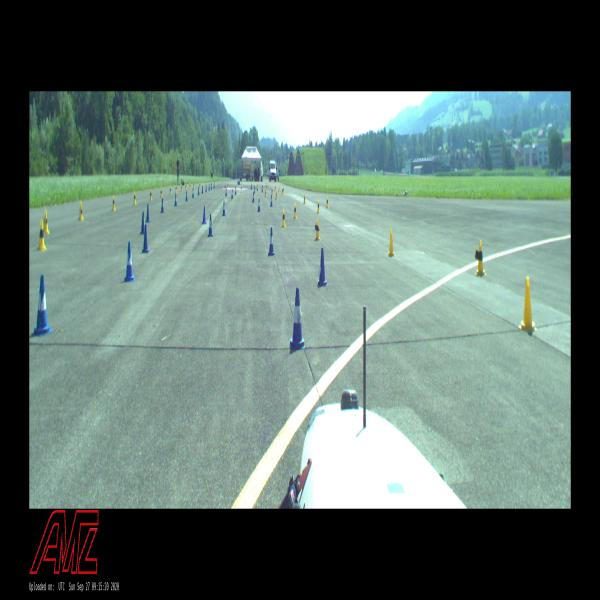blue_cone: (31, 275, 53, 336), (290, 287, 305, 348), (124, 241, 136, 282), (318, 247, 327, 286), (142, 225, 150, 252), (268, 227, 275, 256), (208, 214, 214, 237), (140, 211, 145, 234), (146, 204, 150, 222), (202, 206, 206, 224), (222, 200, 226, 217), (160, 198, 164, 213), (174, 193, 178, 206), (270, 194, 273, 207), (252, 192, 255, 203), (258, 198, 260, 212), (186, 190, 188, 201), (192, 188, 194, 198), (231, 189, 233, 199), (226, 187, 228, 196), (205, 184, 207, 192), (208, 184, 210, 191), (198, 187, 199, 195), (202, 186, 203, 194), (235, 187, 236, 195)
yellow_cone: (518, 277, 537, 330), (476, 241, 486, 275), (38, 220, 46, 250), (388, 229, 395, 256), (44, 210, 49, 234), (315, 218, 320, 240), (79, 201, 83, 220), (282, 209, 286, 228), (112, 194, 116, 212), (294, 203, 297, 218), (317, 200, 320, 213), (326, 196, 329, 208), (134, 191, 136, 206), (303, 194, 306, 204), (150, 189, 152, 200), (160, 187, 162, 197), (276, 190, 278, 200), (170, 186, 172, 194), (265, 188, 266, 197)
